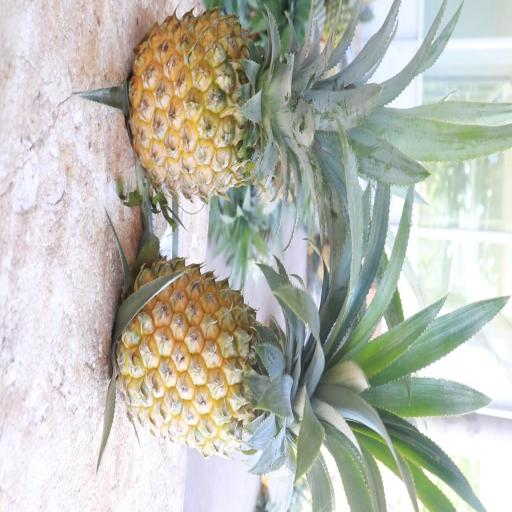Pineapple - v8 v1: (110, 255, 376, 454), (124, 3, 343, 206)
